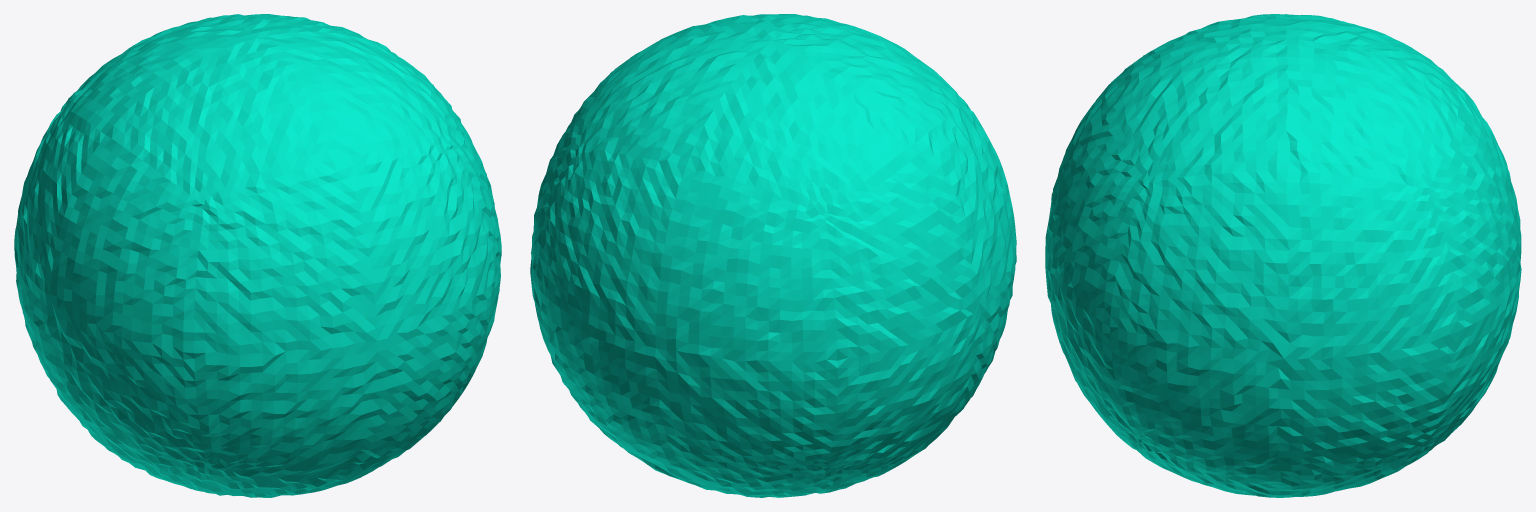
Rendered from Sea31.fbx.
3 renders of one model, left to right at view 1: azimuth 30°, elevation 25°; view 2: azimuth 150°, elevation 25°; view 3: azimuth 270°, elevation 25°, orthographic.
Parts seen in each view (by area): view 1: pCube1; view 2: pCube1; view 3: pCube1.
Part boxes in pixels (x1=…): pCube1: x1=14, y1=14, x2=501, y2=497; pCube1: x1=530, y1=14, x2=1016, y2=497; pCube1: x1=1045, y1=14, x2=1521, y2=497.
Bounding box in the file's own units: 40.03 × 39.99 × 39.95.
